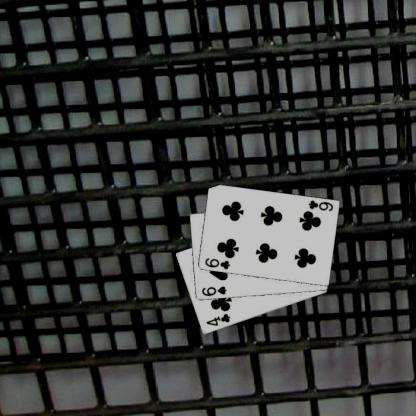4C: (204, 312, 232, 328)
6C: (306, 198, 334, 213), (202, 256, 231, 270)
6S: (200, 284, 228, 297)
